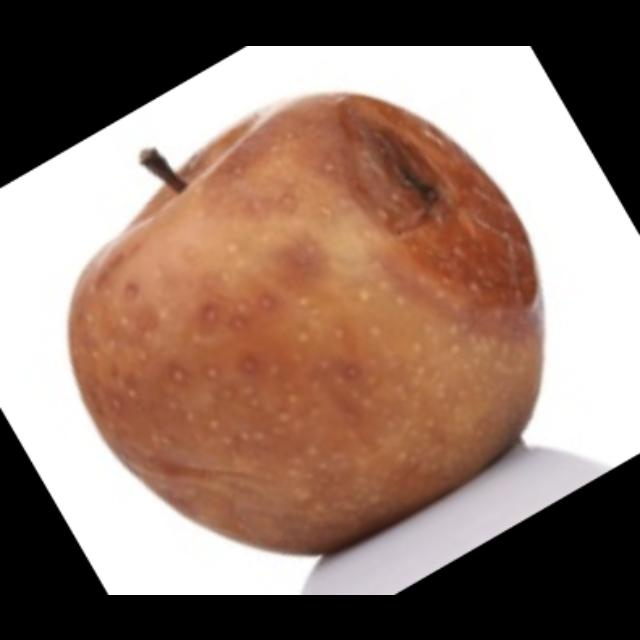Apel Tidak Segar: (70, 93, 548, 554)
